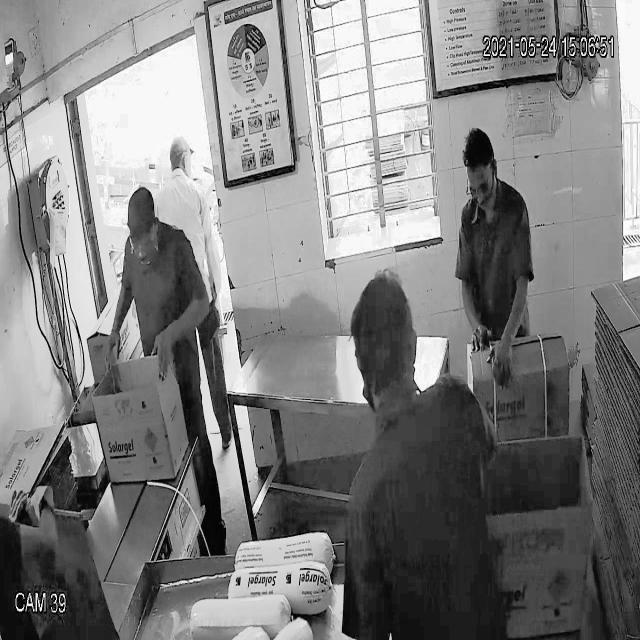glasses: (464, 172, 498, 204), (126, 227, 158, 260)
